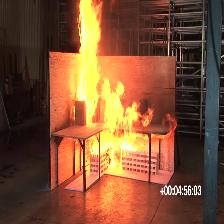fire: (89, 77, 154, 174), (75, 0, 99, 126)
